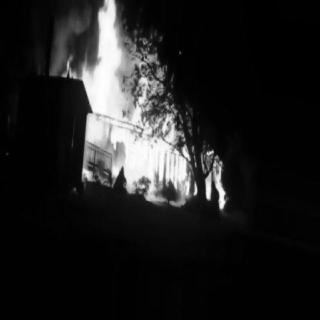Fire: (81, 107, 183, 197), (85, 1, 161, 110), (188, 144, 222, 208), (59, 38, 89, 81)
